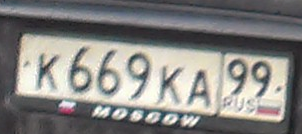character: (62, 41, 96, 97), (94, 45, 125, 97), (123, 51, 153, 103), (186, 66, 216, 111), (156, 61, 185, 107), (34, 50, 63, 94), (248, 56, 273, 99), (225, 56, 249, 98)
